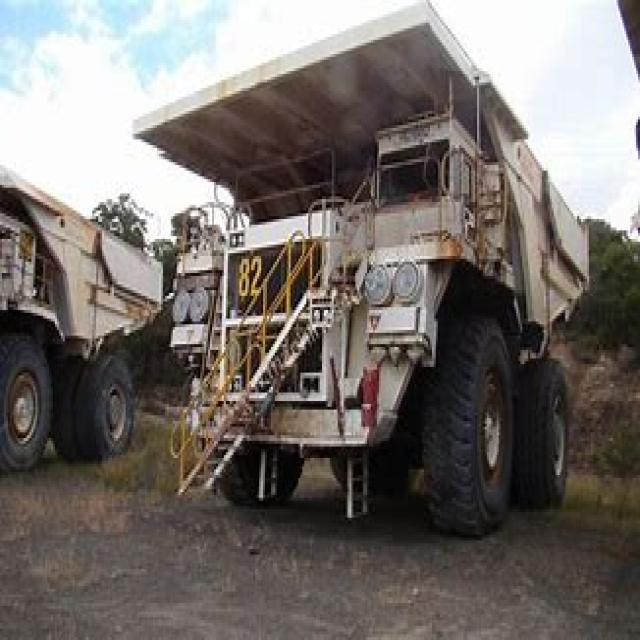dump_truck: (131, 0, 589, 538)
